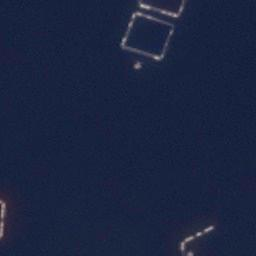square_solid: (120, 11, 175, 60), (136, 1, 187, 19)
